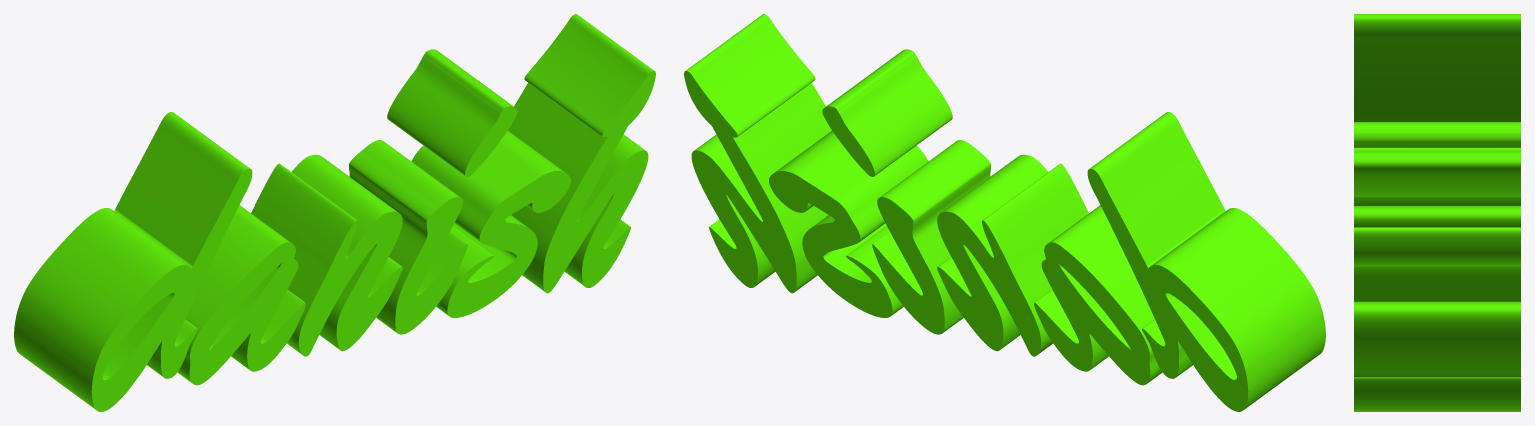
3 views of the same model, side by side, from view 1: azimuth 30°, elevation 25°; view 2: azimuth 150°, elevation 25°; view 3: azimuth 270°, elevation 25° (orthographic). The views are drawn at different scales.
Parts seen in each view (by area): view 1: danish; view 2: danish; view 3: danish.
Part boxes in pixels (box(x1,y1,x2,y2)): danish: box(14, 14, 655, 411); danish: box(684, 14, 1325, 411); danish: box(1354, 14, 1520, 411).
Size of the model in its own units: 2.51 by 0.8828 by 0.6.
